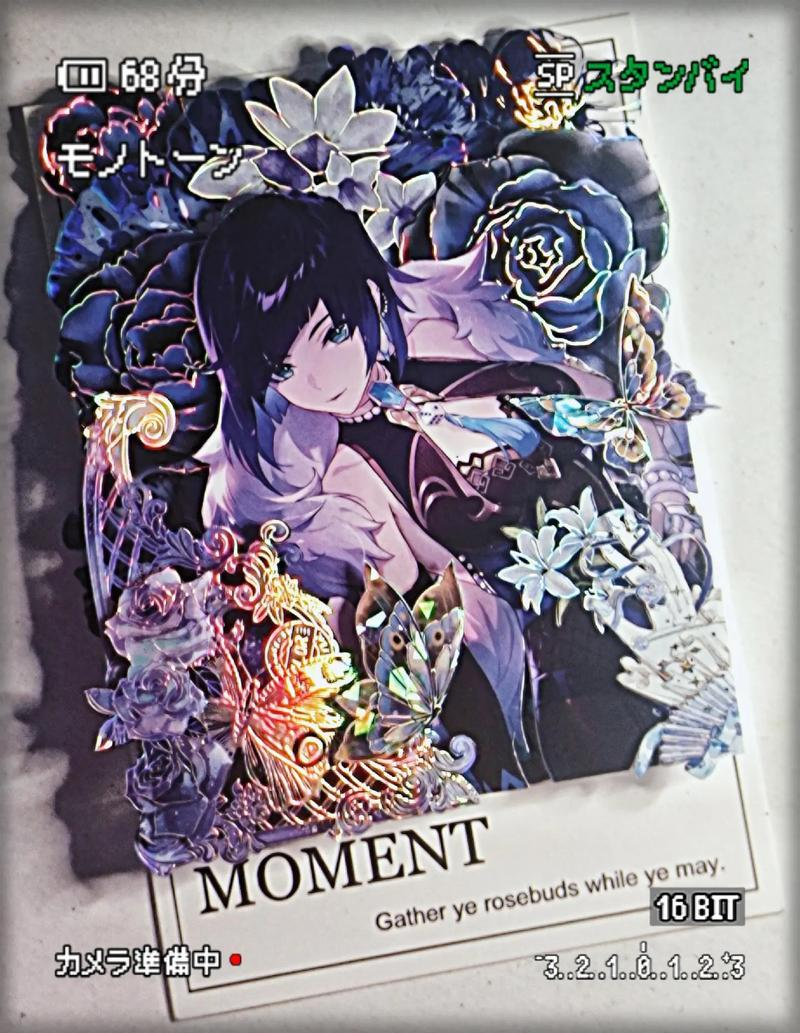夜兰: (119, 186, 639, 811)
